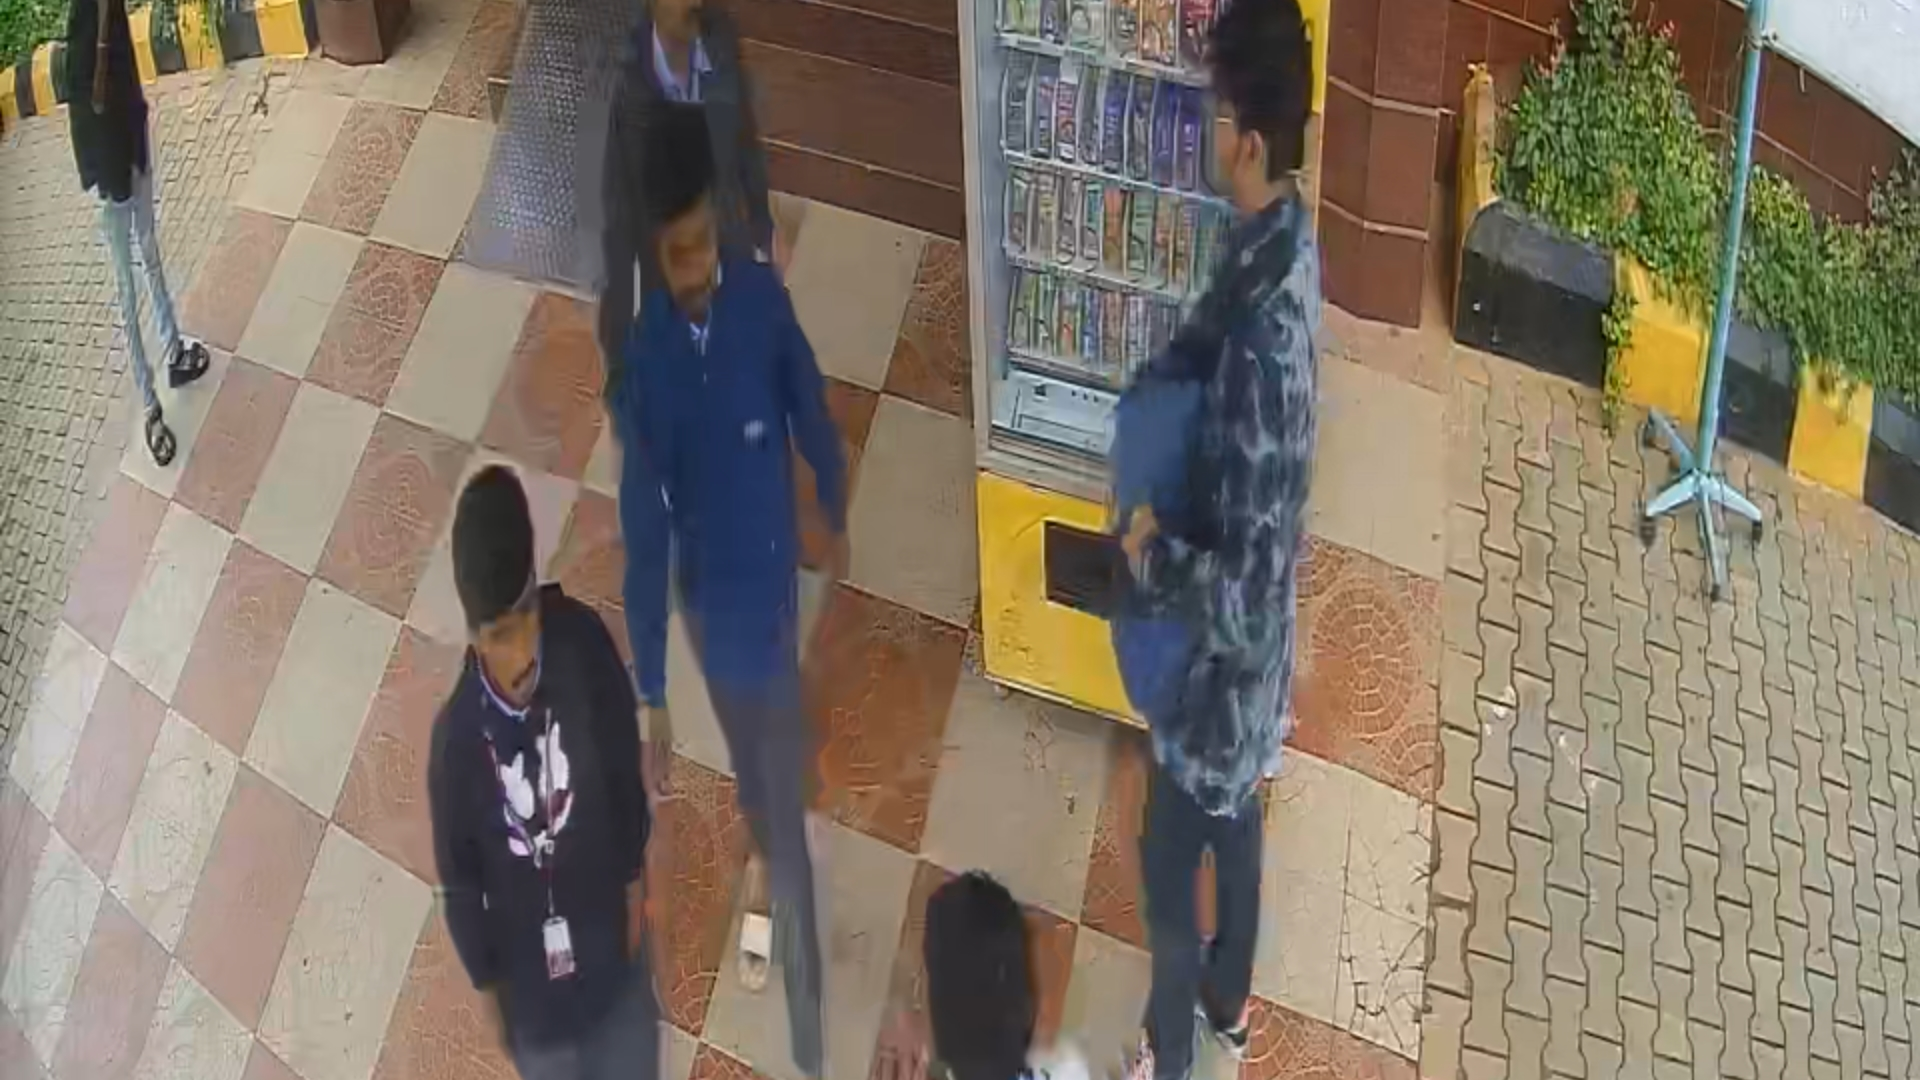intruder: (618, 102, 901, 1080)
not intruder: (419, 458, 695, 1080)
